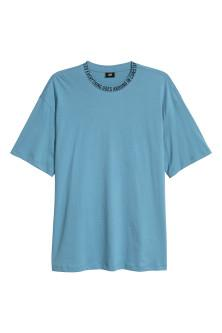teeshirt: (9, 55, 211, 282)
